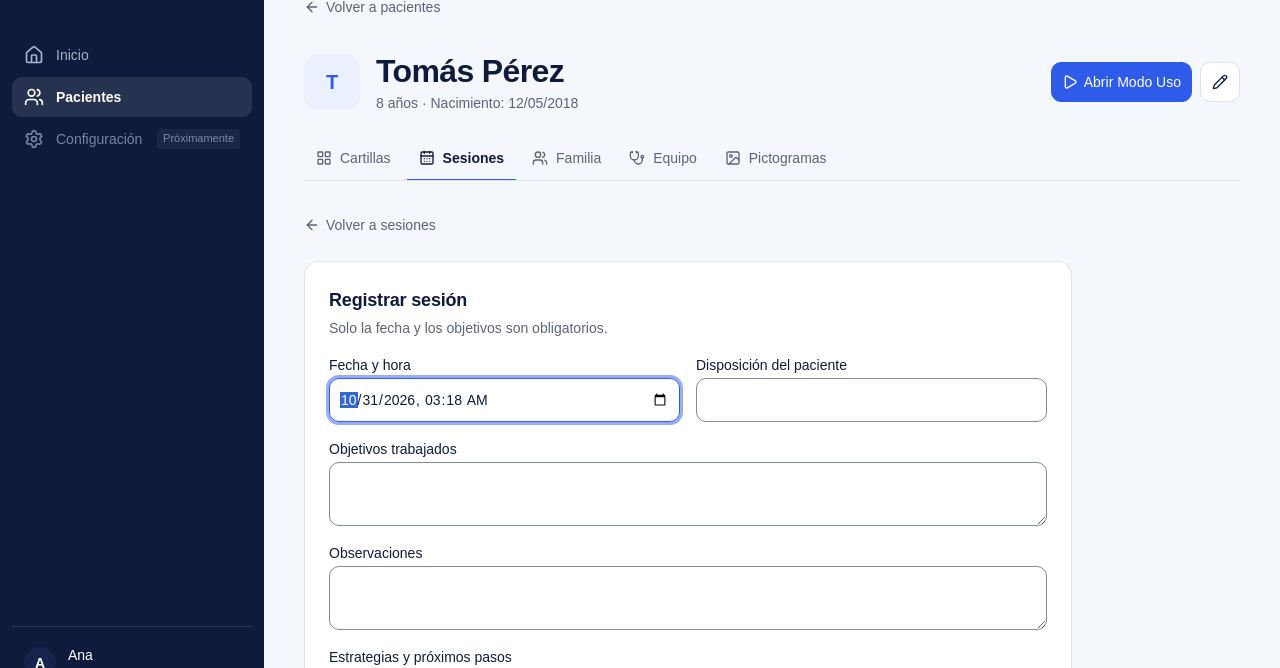
Scenario: NewSessionPage › registers a session and opens its detail page
The image size is (1280, 668).
Step 1. Type "Pedir ayuda" into the text box labelled "Objetivos trabajados" → (688, 494), box [329,462,1047,526]
(page scrolled)
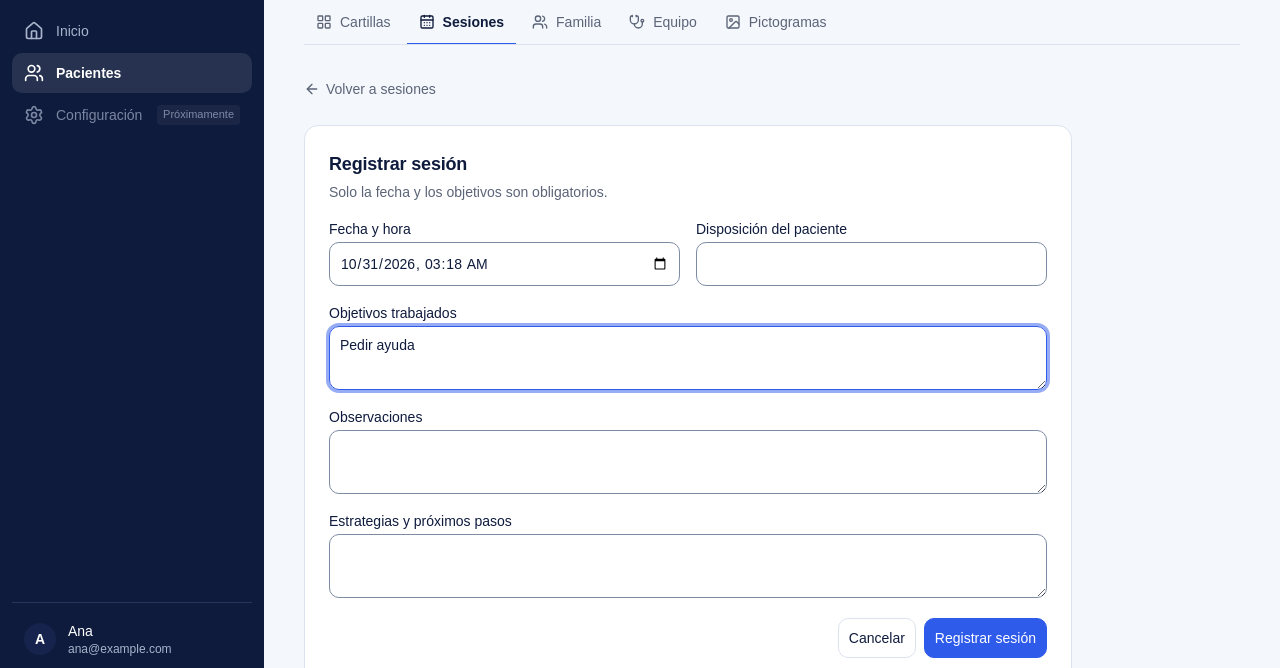
Step 2. Click the button "Registrar sesión" → (985, 638), box [924,618,1047,658]
(page scrolled)
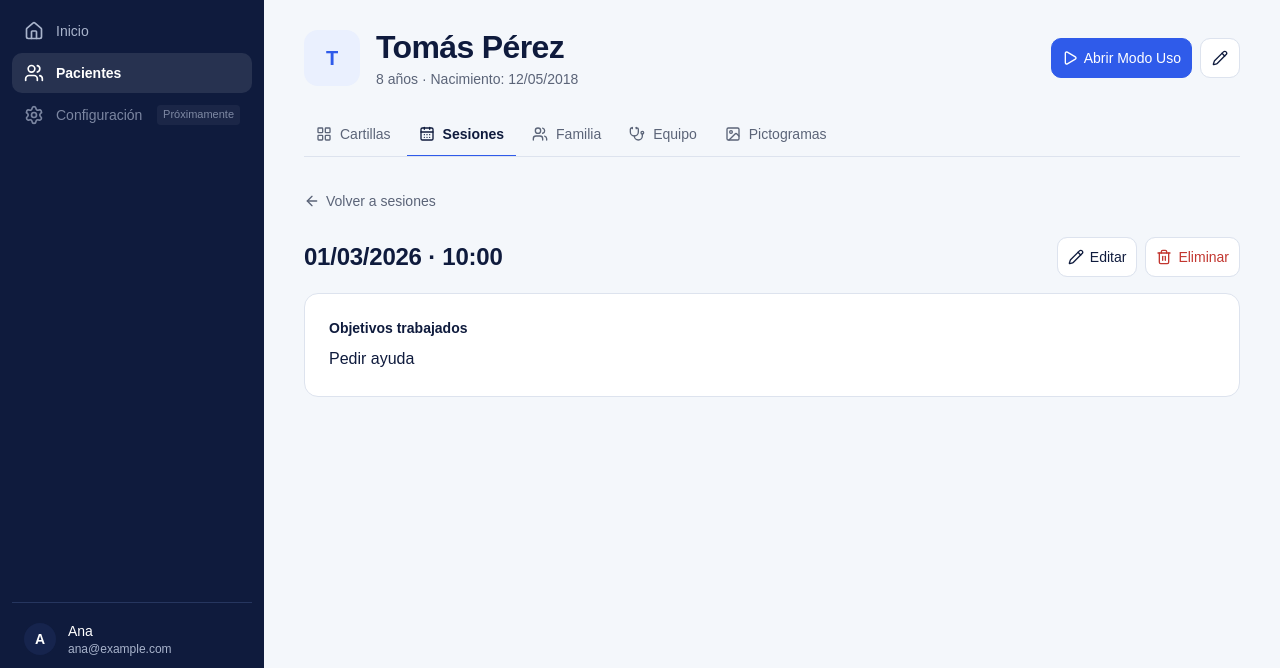
Expected: the heading "01/03/2026 · 10:00" is shown, [304,241,502,273]
